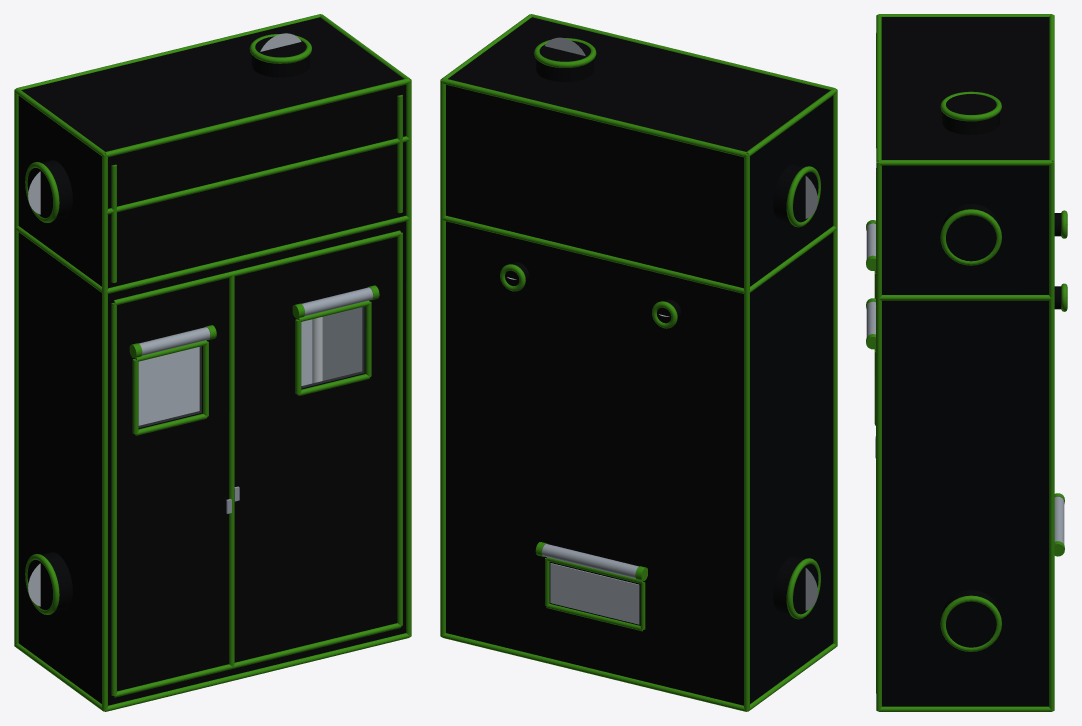
The model's file is grow-tent-120x60x210.obj.
3 views of the same model, side by side, from view 1: azimuth 30°, elevation 25°; view 2: azimuth 150°, elevation 25°; view 3: azimuth 270°, elevation 25° (orthographic).
Parts seen in each view (by area): view 1: door_main_right_below, panel_side_left, panel_upper_front, door_main_left_below, panel_top, door_main_right_above, door_main_left_above, lining_back, observation_window_1_pane, observation_window_2_pane, door_main_right_left, seam_corner_3 (+28 smaller); view 2: panel_back, panel_side_left, panel_top, vent_window_pane, seam_corner_1, seam_corner_2, seam_corner_3, seam_top_back, seam_base_back, seam_divider_back, vent_port_side_left_upper_sleeve, vent_port_side_left_lower_sleeve (+7 smaller); view 3: panel_side_right, panel_top, seam_corner_2, seam_corner_4, vent_port_upper_chamber_sleeve, vent_port_side_right_lower_sleeve, vent_port_roof_sleeve, seam_top_right, seam_base_right, seam_divider_right, vent_port_upper_chamber_ring, vent_port_side_right_lower_ring (+6 smaller).
Boxes of the visible parts, <box> form: door_main_right_below: <box>231,363,404,675</box>; panel_side_left: <box>18,96,108,705</box>; panel_upper_front: <box>108,85,404,287</box>; door_main_left_below: <box>108,406,231,705</box>; panel_top: <box>21,17,403,151</box>; door_main_right_above: <box>231,221,404,337</box>; door_main_left_above: <box>108,264,231,368</box>; lining_back: <box>138,319,311,425</box>; observation_window_1_pane: <box>301,307,364,387</box>; observation_window_2_pane: <box>139,346,201,427</box>; door_main_right_left: <box>234,323,295,404</box>; seam_corner_3: <box>102,154,107,711</box>; panel_back: <box>447,85,743,705</box>; panel_side_left: <box>743,96,833,705</box>; panel_top: <box>448,17,830,151</box>; vent_window_pane: <box>550,563,639,624</box>; seam_corner_1: <box>744,154,749,711</box>; seam_corner_2: <box>440,79,445,637</box>; seam_corner_3: <box>833,89,837,646</box>; seam_top_back: <box>442,78,746,157</box>; seam_base_back: <box>442,633,746,711</box>; seam_divider_back: <box>442,215,745,293</box>; vent_port_side_left_upper_sleeve: <box>773,164,818,223</box>; vent_port_side_left_lower_sleeve: <box>773,556,818,615</box>; panel_side_right: <box>882,165,1048,706</box>; panel_top: <box>881,17,1049,159</box>; seam_corner_2: <box>1049,161,1054,711</box>; seam_corner_4: <box>876,162,881,711</box>; vent_port_upper_chamber_sleeve: <box>942,203,999,261</box>; vent_port_side_right_lower_sleeve: <box>942,590,999,647</box>; vent_port_roof_sleeve: <box>942,94,999,134</box>; seam_top_right: <box>879,160,1051,165</box>; seam_base_right: <box>879,706,1051,711</box>; seam_divider_right: <box>879,295,1051,300</box>; vent_port_upper_chamber_ring: <box>940,209,1001,265</box>; vent_port_side_right_lower_ring: <box>940,595,1001,651</box>.
Size of the model in its own units: 1.44 by 2.23 by 0.7006.
